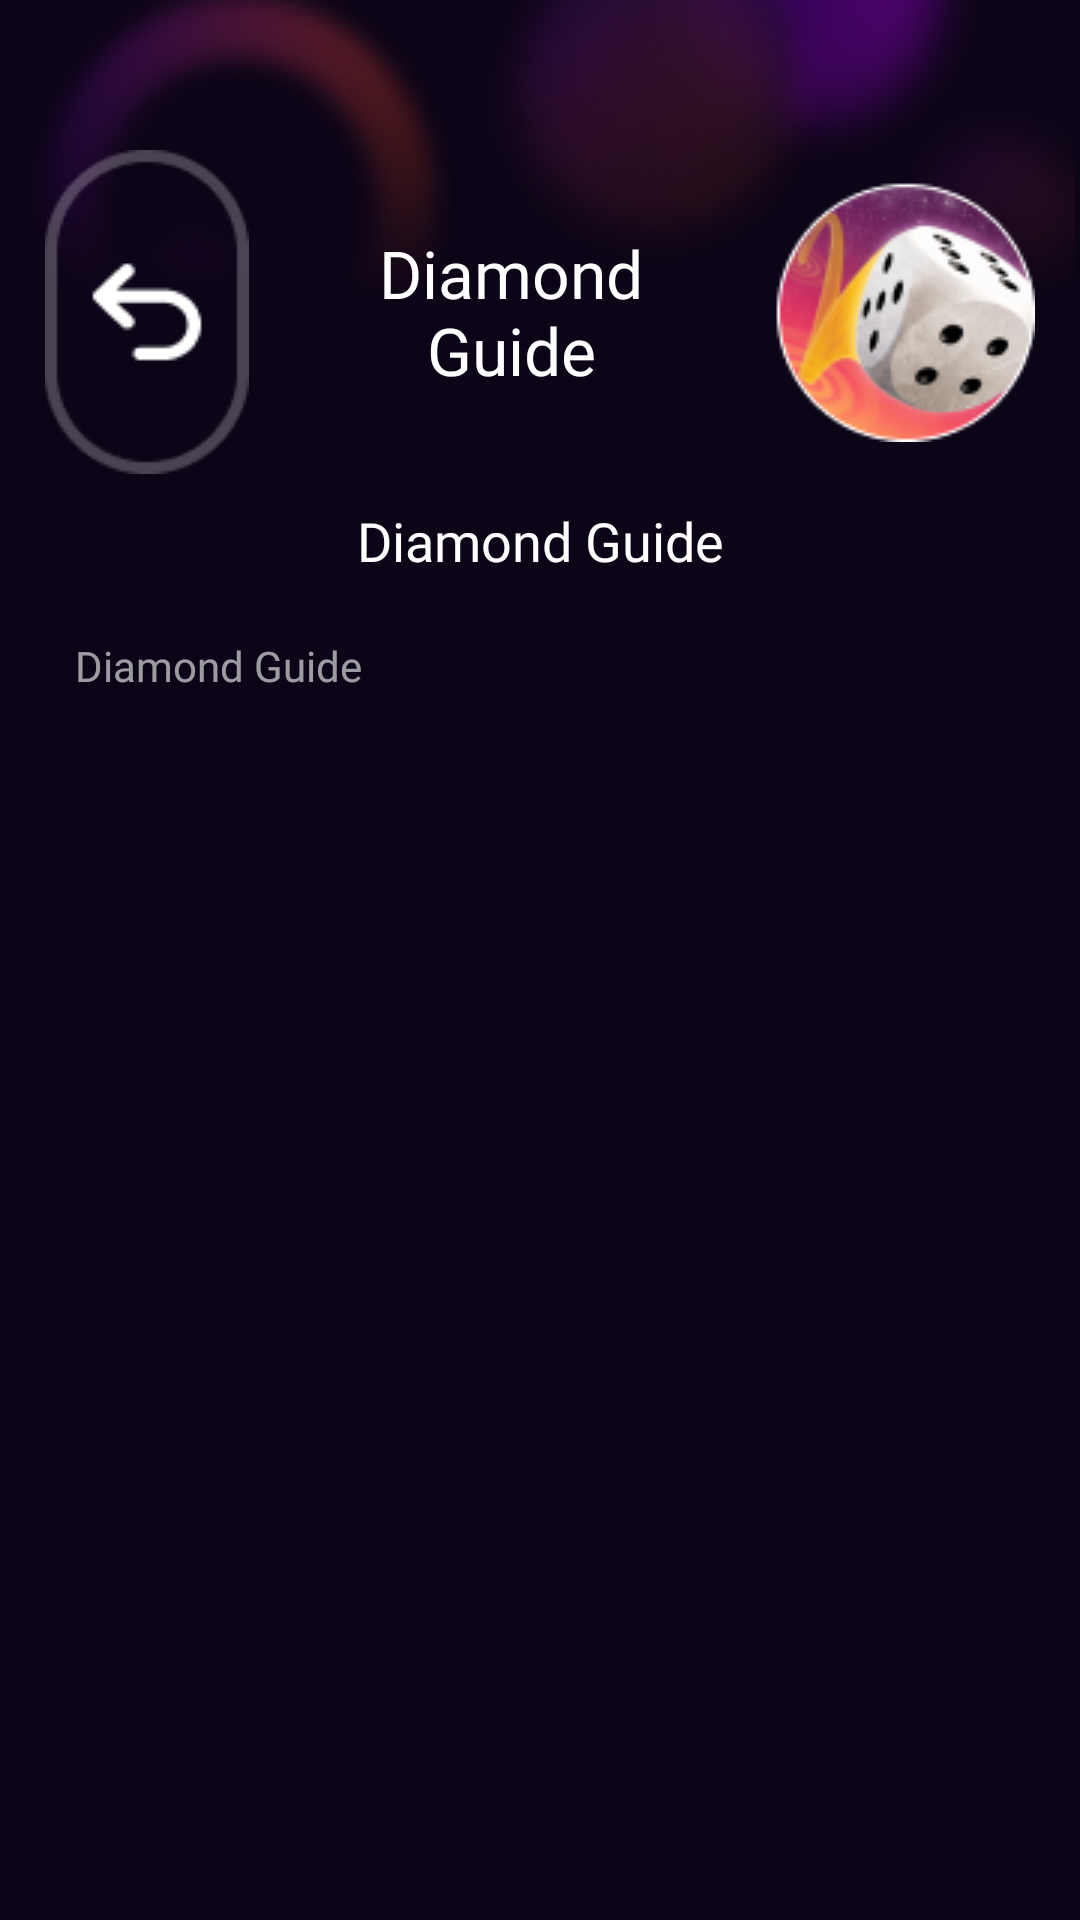

Screen size 1080*1920. Icon name, then its box in pixels as (x1, y1, x2, y2):
back: (45, 150, 249, 474)
